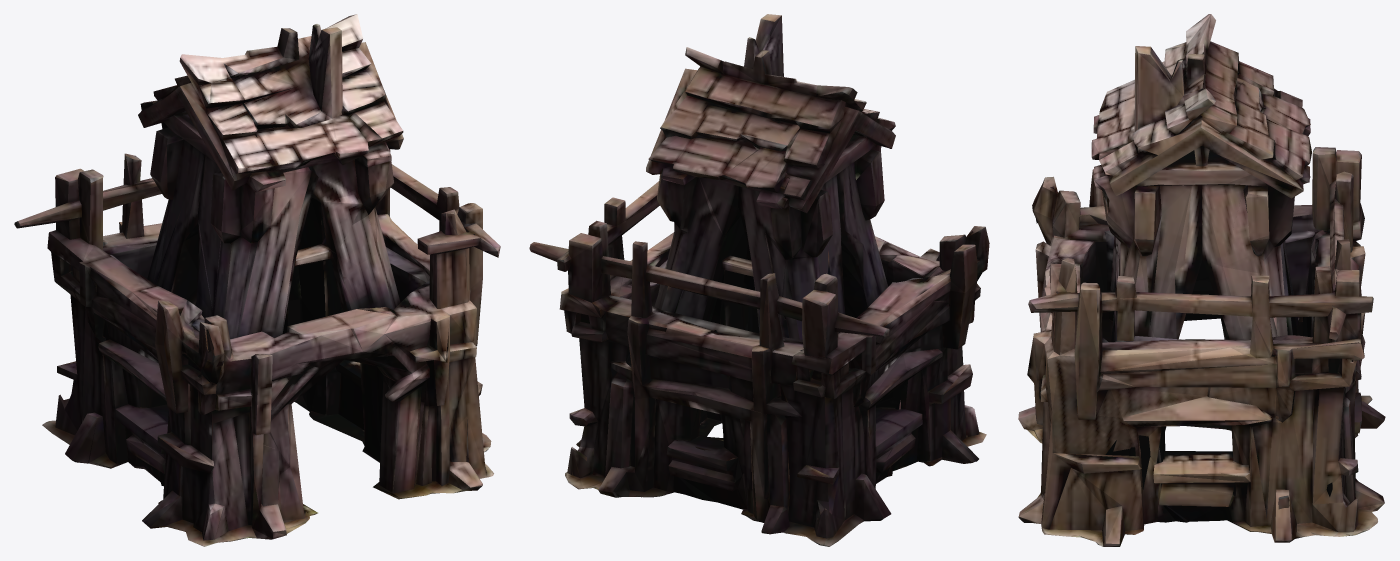
Rendered from orc_watchtower_broken_01.glb.
3 views of the same model, side by side, from view 1: azimuth 30°, elevation 25°; view 2: azimuth 150°, elevation 25°; view 3: azimuth 270°, elevation 25° (orthographic). The views are drawn at different scales.
Visible parts, largest first — view 1: geometry_0; view 2: geometry_0; view 3: geometry_0.
Part boxes in pixels (x1=…): geometry_0: x1=14, y1=14, x2=500, y2=546; geometry_0: x1=529, y1=14, x2=989, y2=546; geometry_0: x1=1018, y1=14, x2=1385, y2=546.
Bounding box in the file's own units: 0.9036 × 0.9986 × 0.7673.
Materials: 1 (1 with a texture image).
